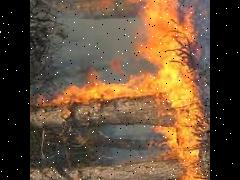fire: (41, 0, 203, 106), (151, 108, 209, 180)
